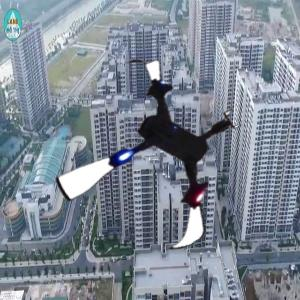drone: (50, 58, 253, 261)
